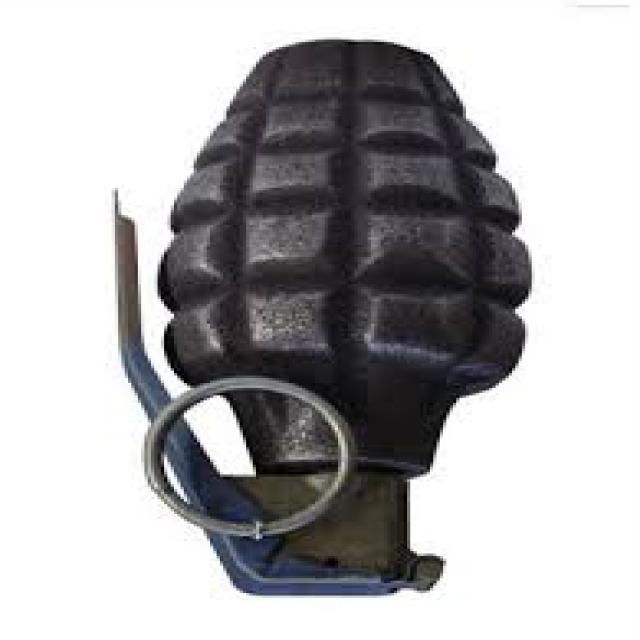grenade: (101, 36, 541, 602)
